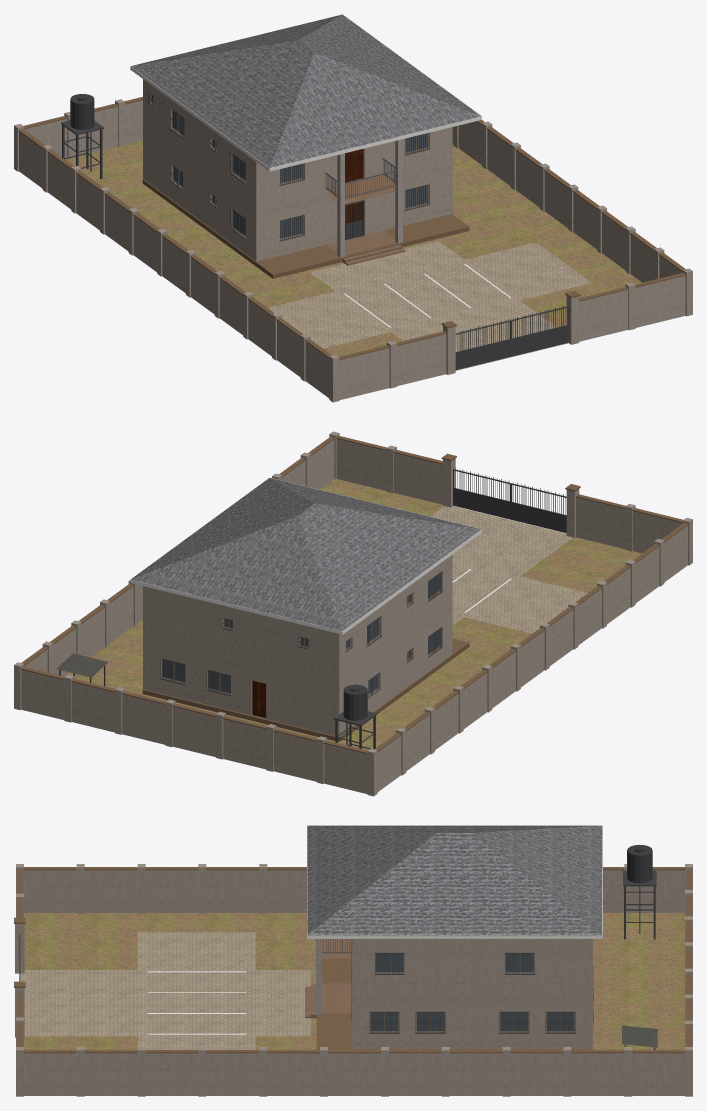
File: duplex_exterior.glb
3 views of the same model, one above another, from view 1: azimuth 30°, elevation 25°; view 2: azimuth 150°, elevation 25°; view 3: azimuth 270°, elevation 25° (orthographic). The views are drawn at different scales.
Visible parts, largest first — view 1: duplex_exterior_static, gate_right_mesh, gate_left_mesh, door_f0_hall_porch_security_mesh; view 2: duplex_exterior_static, gate_right_mesh, gate_left_mesh; view 3: duplex_exterior_static.
Part boxes in pixels (bbox=[...]): duplex_exterior_static: bbox=[14, 14, 692, 402]; gate_right_mesh: bbox=[511, 305, 569, 356]; gate_left_mesh: bbox=[455, 319, 511, 369]; door_f0_hall_porch_security_mesh: bbox=[345, 200, 364, 240]; duplex_exterior_static: bbox=[14, 431, 692, 796]; gate_right_mesh: bbox=[453, 467, 511, 519]; gate_left_mesh: bbox=[510, 482, 566, 533]; duplex_exterior_static: bbox=[14, 825, 692, 1096].
Size of the model in its own units: 22.4 by 9.57 by 34.5.
26 materials, 11 textured.
